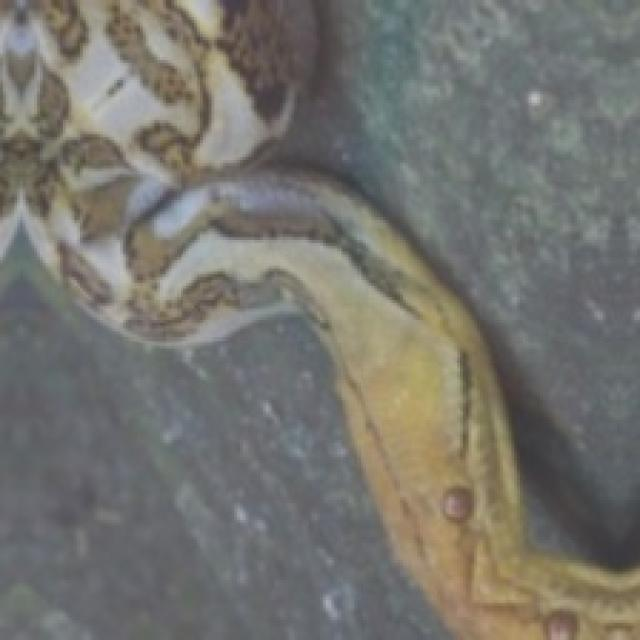reticulated python: (0, 1, 640, 640)
